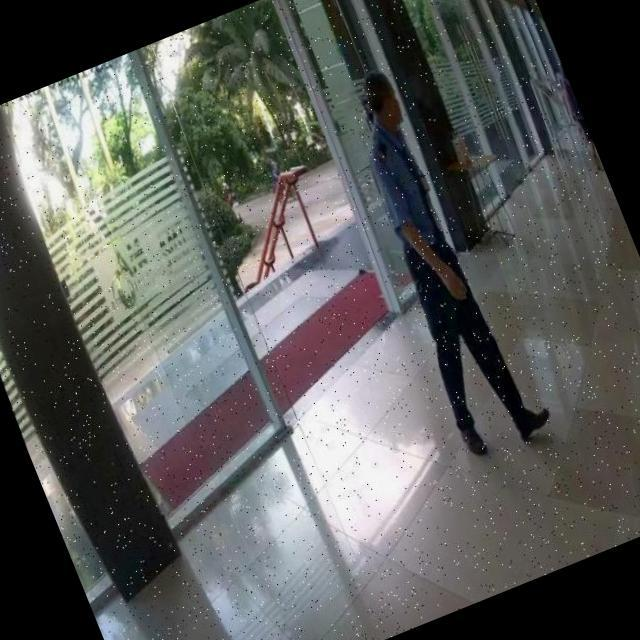person: (316, 52, 561, 462)
